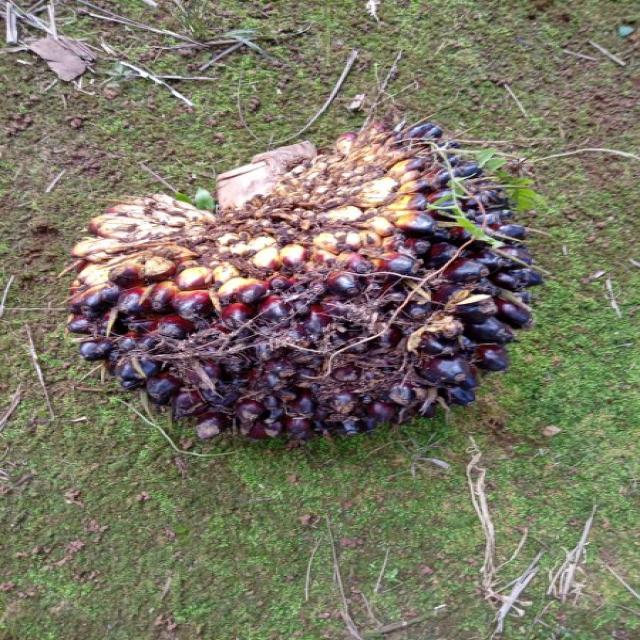fraksi 00: (36, 85, 610, 491)
